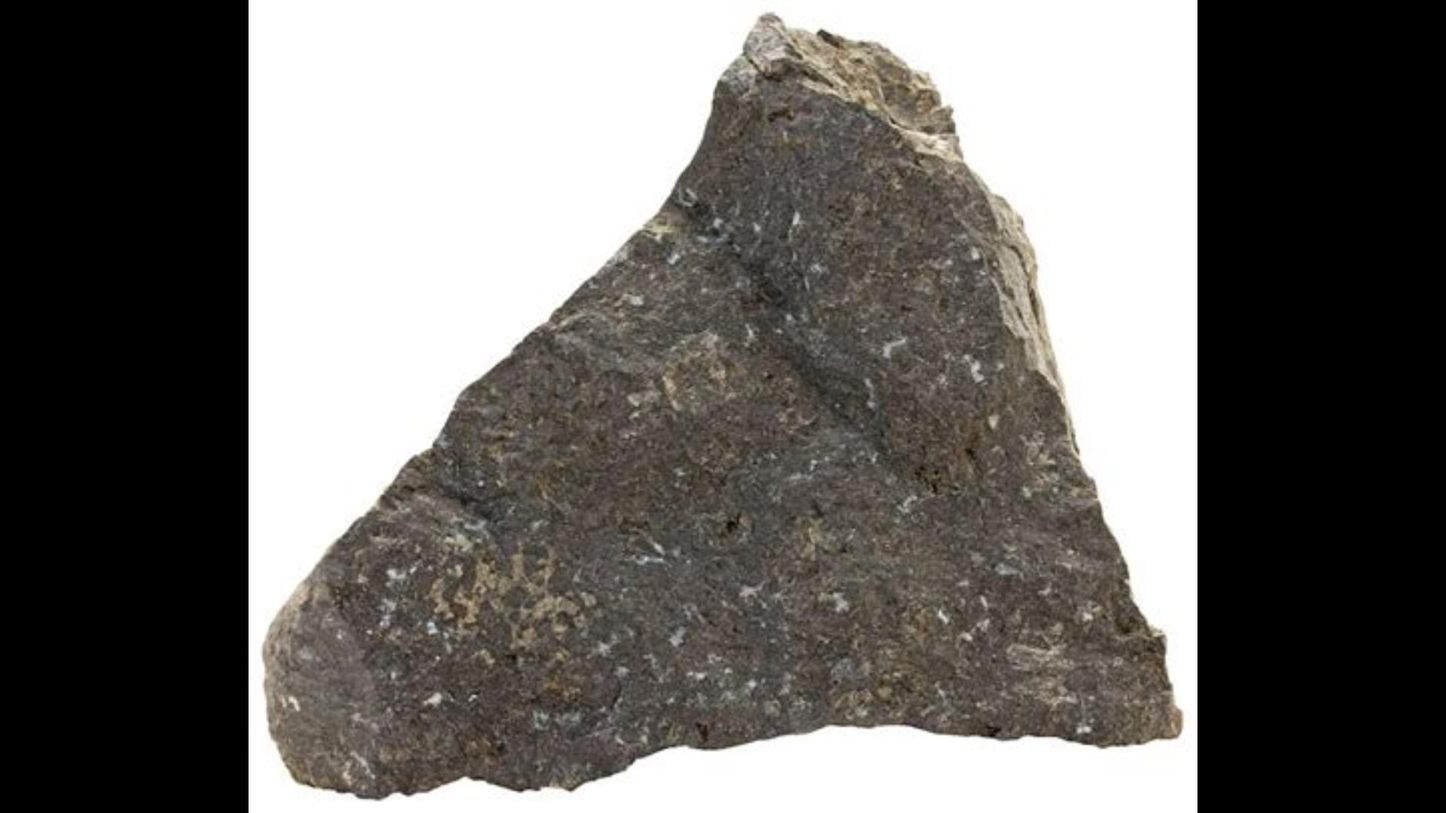rock: (271, 18, 1178, 795)
